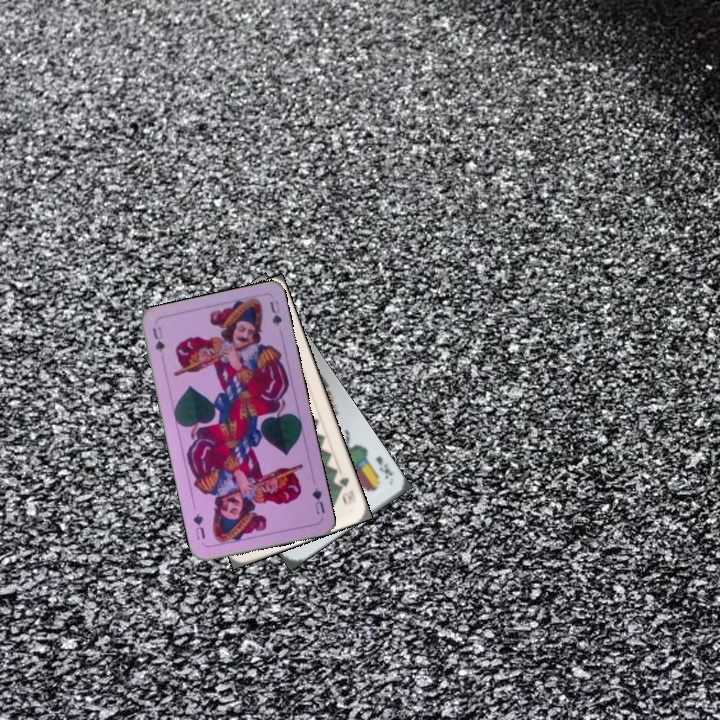EK: (371, 452, 396, 481)
G10: (333, 473, 358, 507)
GU: (308, 484, 328, 517), (148, 322, 167, 355)
